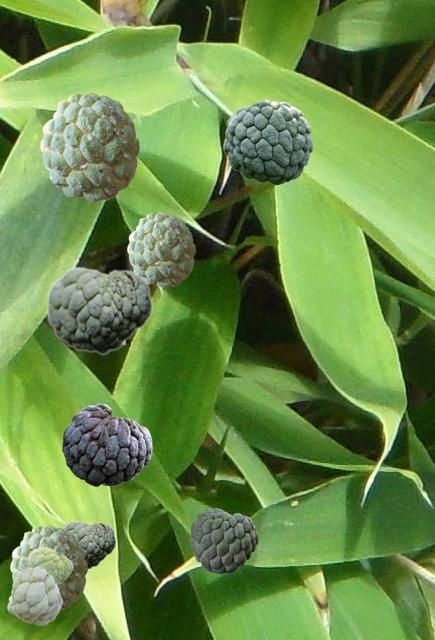atis: (40, 92, 138, 200), (46, 266, 152, 354), (223, 99, 312, 184), (62, 403, 151, 485), (10, 525, 86, 609), (127, 212, 194, 286), (190, 508, 257, 572), (7, 566, 61, 624), (62, 520, 115, 568), (27, 546, 72, 584)
